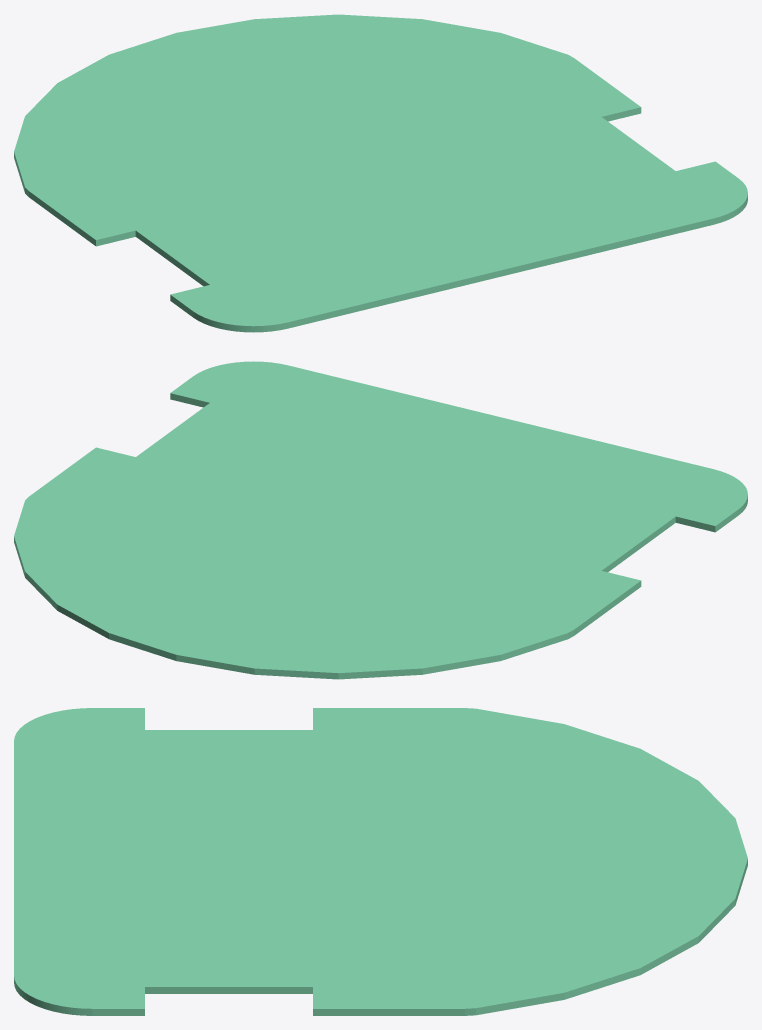
Rendered from pibot2_base.dae.
3 views of the same model, one above another, from view 1: azimuth 30°, elevation 25°; view 2: azimuth 150°, elevation 25°; view 3: azimuth 270°, elevation 25° (orthographic). The views are drawn at different scales.
Parts seen in each view (by area): view 1: instance_0_001, instance_0; view 2: instance_0_001, instance_0; view 3: instance_0_001, instance_0.
Boxes of the visible parts, x1,y1,x2,y2 form: instance_0_001: (14, 14, 747, 332); instance_0: (14, 107, 641, 286); instance_0_001: (14, 361, 747, 673); instance_0: (14, 393, 715, 679); instance_0_001: (14, 708, 747, 1015); instance_0: (145, 859, 747, 1015).
Size of the model in its own units: 0.1358 by 0.14 by 0.0015.
